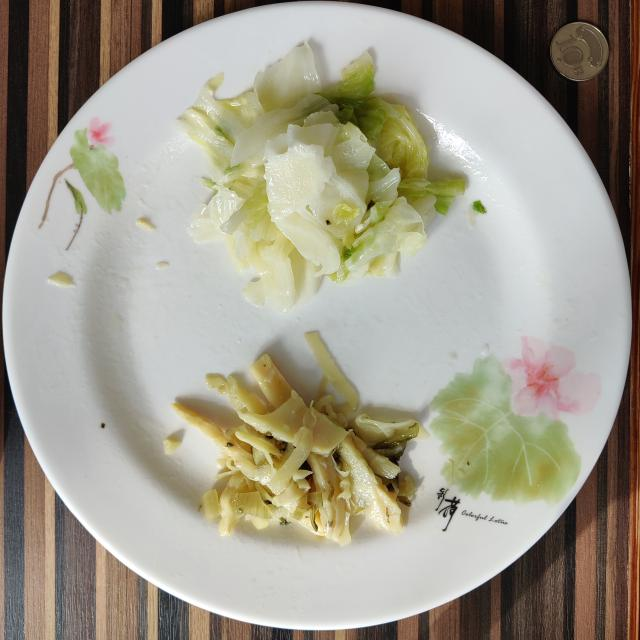cabbage: (176, 44, 465, 312)
coin: (550, 22, 609, 81)
